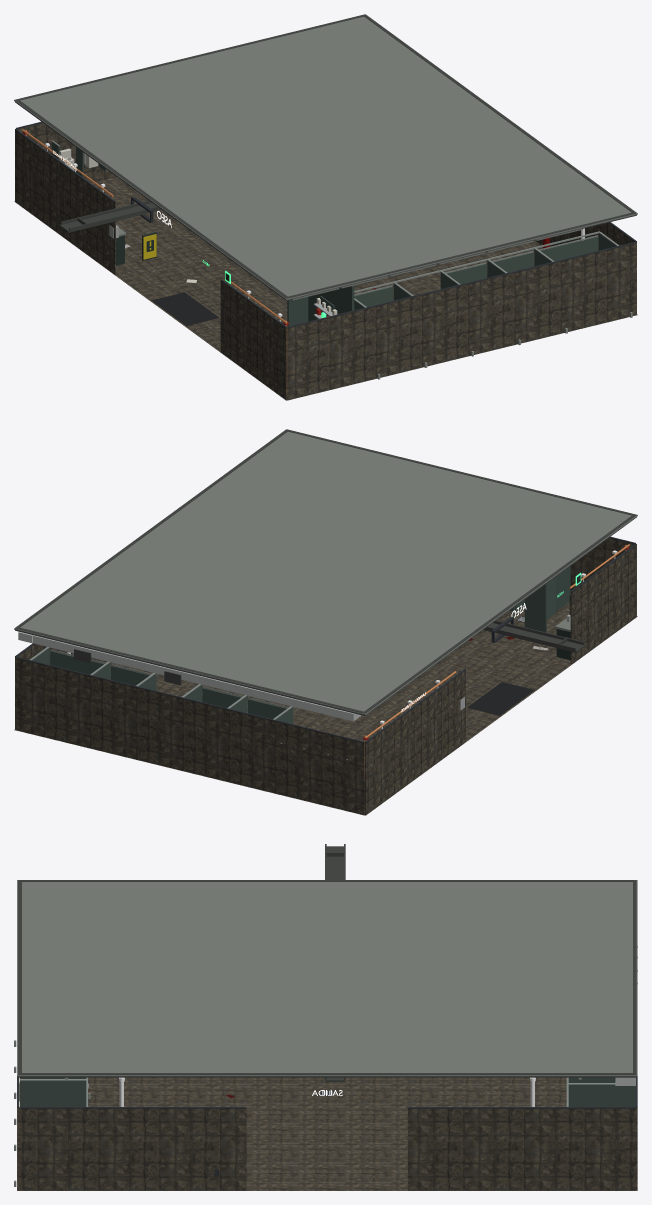
Rendered from restroom_art.glb.
3 renders of one model, top to bottom at view 1: azimuth 30°, elevation 25°; view 2: azimuth 150°, elevation 25°; view 3: azimuth 270°, elevation 25°, orthographic. The views are drawn at different scales.
Visible parts, largest first — view 1: RS_Ceiling_DIFFUSER, RS_Wainscot_TILE, RS_FloorTiles_TRIM, RS_StallsSouth, RS_CleaningRoom, RS_Tray_Link_CABLE, RS_Urinals, RS_Water_Supply_CABLE; view 2: RS_Ceiling_DIFFUSER, RS_Wainscot_TILE, RS_FloorTiles_TRIM, RS_StallsNorth, RS_Extract_Duct_CABLE, RS_CleaningRoom, RS_Tray_Link_CABLE, RS_Water_Supply_CABLE; view 3: RS_Ceiling_DIFFUSER, RS_Wainscot_TILE, RS_FloorTiles_TRIM, RS_StallsSouth, RS_StallsNorth, RS_Tray_Link_CABLE.
Part boxes in pixels (x1=…): RS_Ceiling_DIFFUSER: x1=14, y1=14, x2=637, y2=300; RS_Wainscot_TILE: x1=15, y1=121, x2=636, y2=399; RS_FloorTiles_TRIM: x1=14, y1=177, x2=637, y2=400; RS_StallsSouth: x1=354, y1=231, x2=632, y2=379; RS_CleaningRoom: x1=287, y1=285, x2=354, y2=326; RS_Tray_Link_CABLE: x1=59, y1=196, x2=161, y2=232; RS_Urinals: x1=51, y1=140, x2=106, y2=176; RS_Water_Supply_CABLE: x1=22, y1=129, x2=288, y2=393; RS_Ceiling_DIFFUSER: x1=14, y1=429, x2=637, y2=715; RS_Wainscot_TILE: x1=15, y1=536, x2=636, y2=814; RS_FloorTiles_TRIM: x1=14, y1=602, x2=637, y2=815; RS_StallsNorth: x1=29, y1=647, x2=293, y2=723; RS_Extract_Duct_CABLE: x1=18, y1=631, x2=360, y2=721; RS_CleaningRoom: x1=524, y1=566, x2=570, y2=632; RS_Tray_Link_CABLE: x1=483, y1=616, x2=585, y2=652; RS_Water_Supply_CABLE: x1=363, y1=544, x2=629, y2=778; RS_Ceiling_DIFFUSER: x1=17, y1=880, x2=637, y2=1077; RS_Wainscot_TILE: x1=17, y1=1076, x2=637, y2=1190; RS_FloorTiles_TRIM: x1=17, y1=1077, x2=637, y2=1190; RS_StallsSouth: x1=14, y1=1040, x2=90, y2=1186; RS_StallsNorth: x1=566, y1=1077, x2=635, y2=1107; RS_Tray_Link_CABLE: x1=325, y1=844, x2=345, y2=1081.
Bounding box in the file's own units: 14.45 × 3.24 × 15.79.
25 materials, 6 textured.
